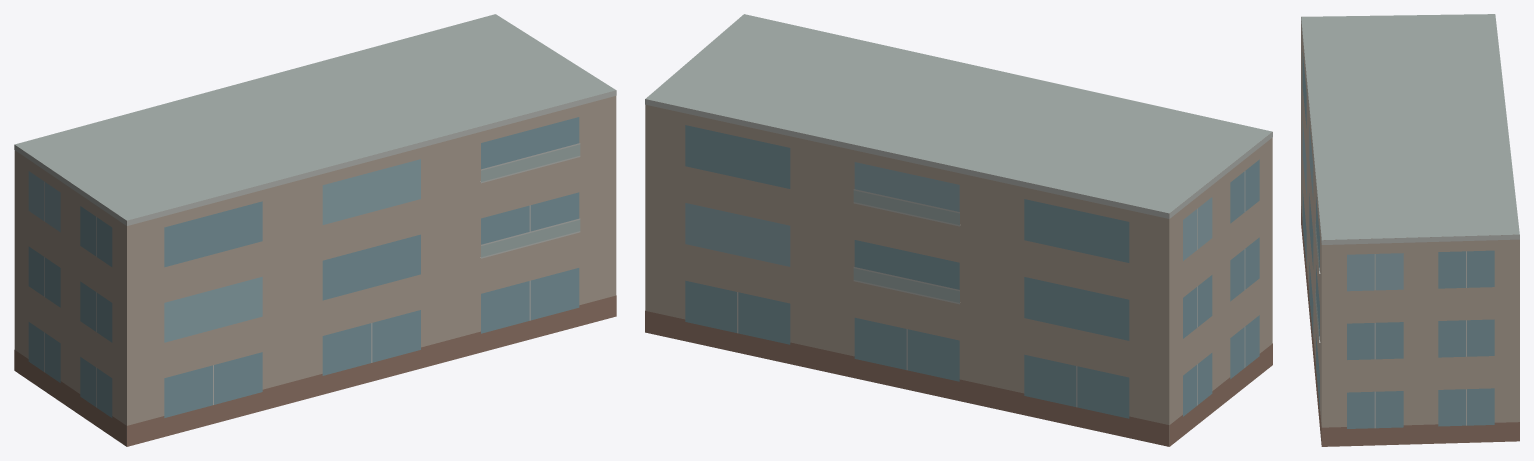
Rendered from survey-upis-32709057.glb.
The picture shows the model from 3 angles, left to right: view 1: azimuth 30°, elevation 25°; view 2: azimuth 150°, elevation 25°; view 3: azimuth 270°, elevation 25°; orthographic projection. The views are drawn at different scales.
Parts seen in each view (by area): view 1: survey-upis-32709057.tmp; view 2: survey-upis-32709057.tmp; view 3: survey-upis-32709057.tmp.
Boxes of the visible parts, x1=… form: survey-upis-32709057.tmp: x1=14, y1=14, x2=616, y2=446; survey-upis-32709057.tmp: x1=645, y1=14, x2=1272, y2=446; survey-upis-32709057.tmp: x1=1301, y1=14, x2=1519, y2=446.
Size of the model in its own units: 23.94 by 10.2 by 9.79.
